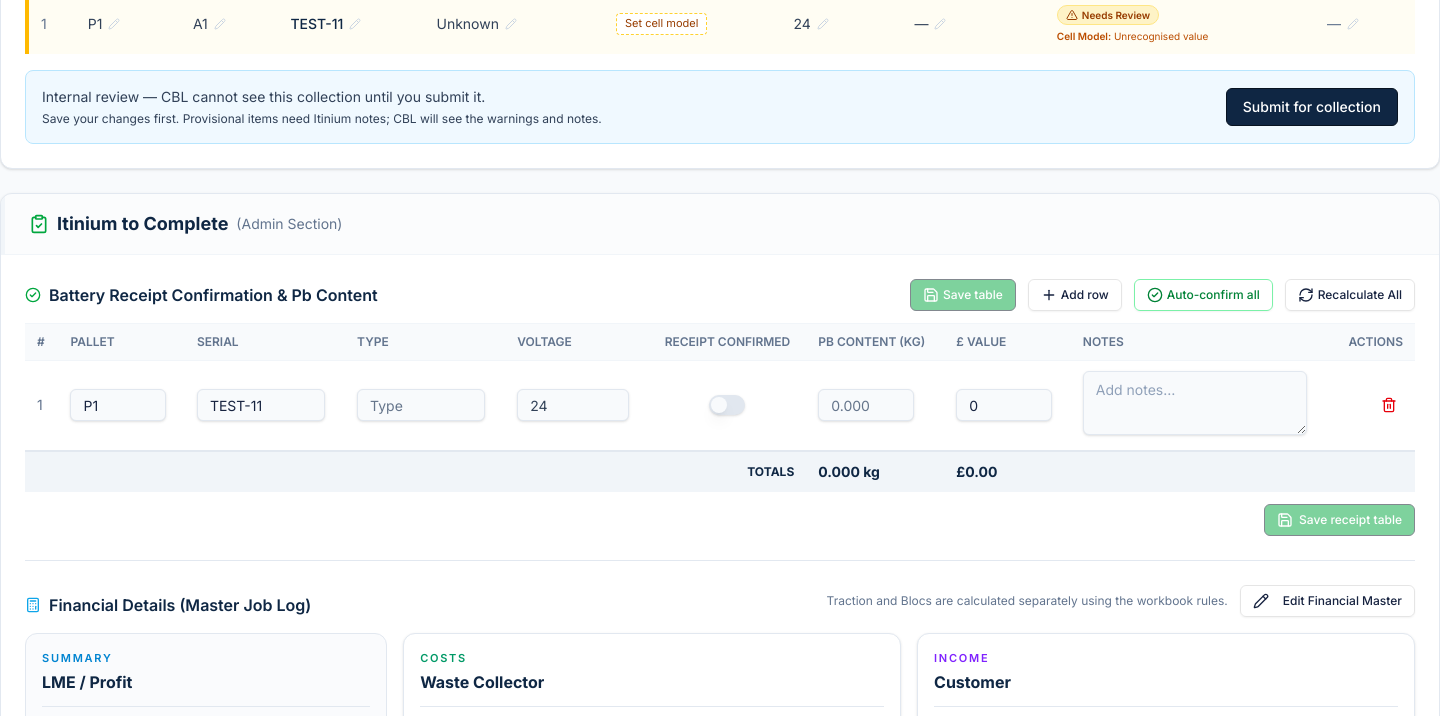
Test: job-page model badge saving › previews a typed model and voltage without saving, then sends only edited inputs
(page scrolled)
In the field named "Type for receipt row 1": (421,405) [357,389,485,421], type "3PzS375"
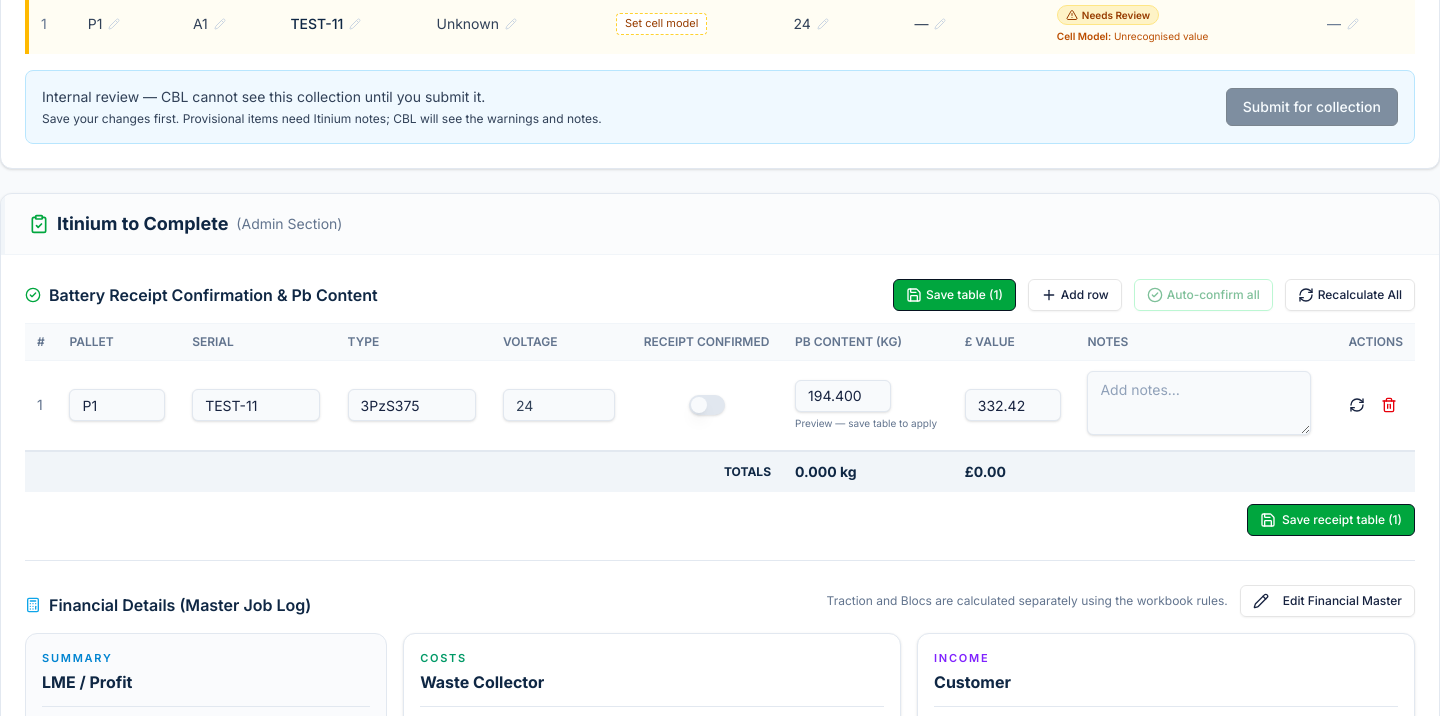
Expected: the number field named "Pb content for receipt row 1" holds "194.4", [795,380,891,412]
Expected: the text "Preview — save table to apply" is shown, [795,416,941,430]
Replace the text in the field named "Voltage for receipt row 1" with "48V": (559,405) [503,389,615,421]
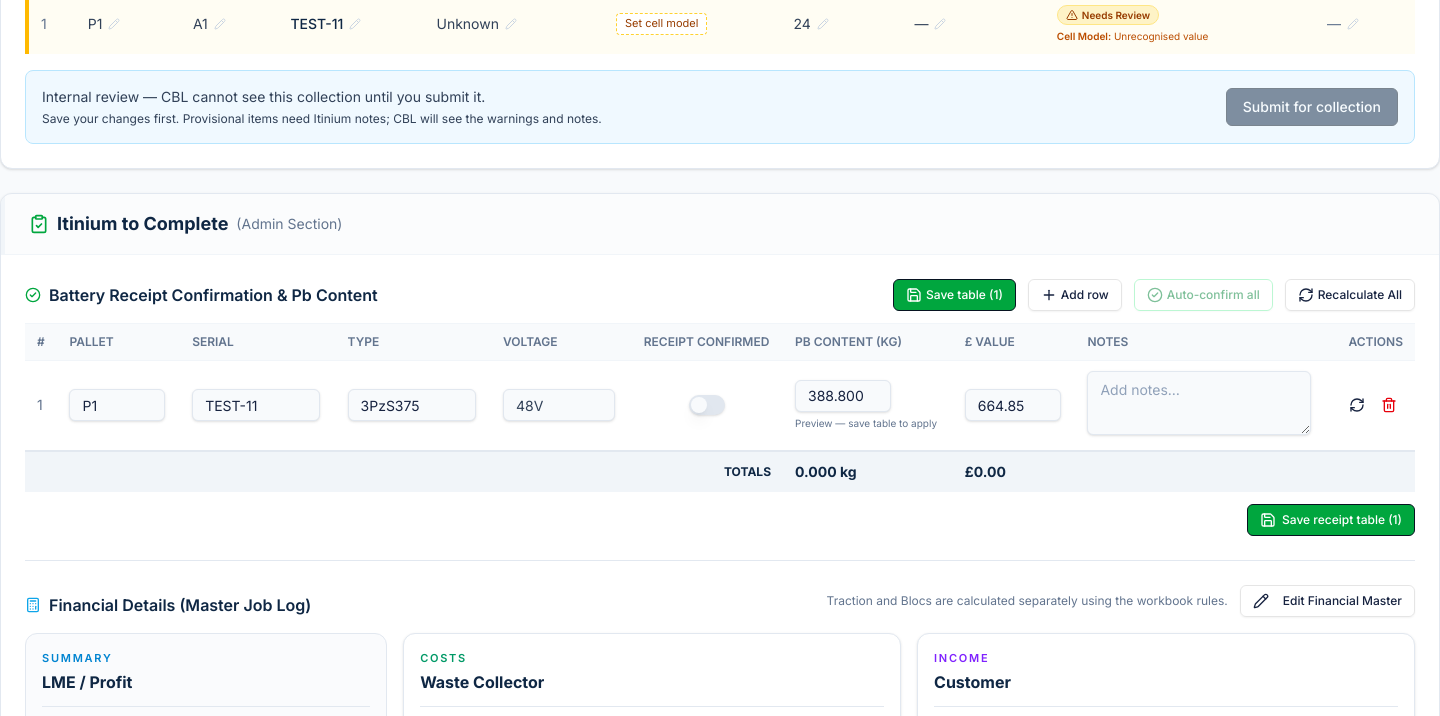
Expected: the number field named "Pb content for receipt row 1" holds "388.8", [795,380,891,412]
Click the button "Save table (1)": (954,295) [893,279,1016,311]
(page scrolled)
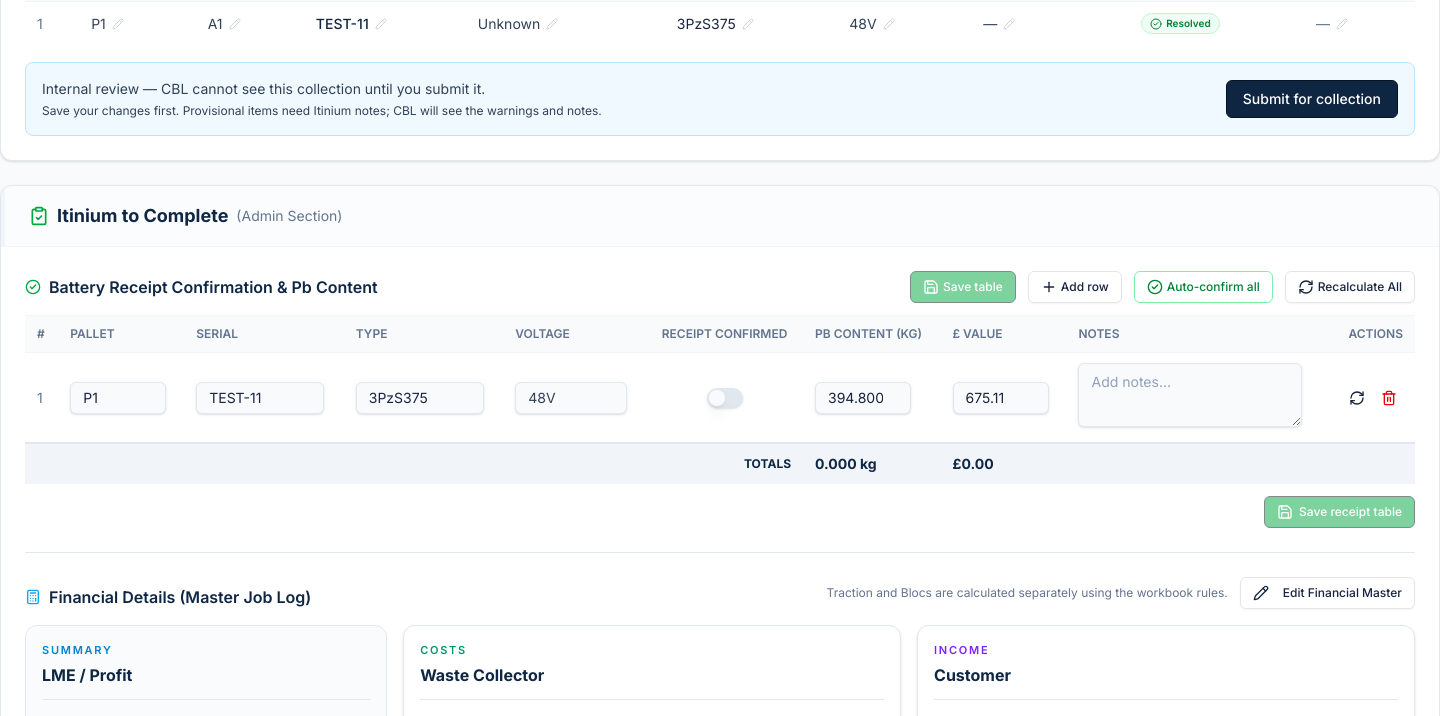
Expected: the text "Preview — save table to apply" is gone
Expected: the number field named "Pb content for receipt row 1" holds "394.8", [815,382,911,414]
